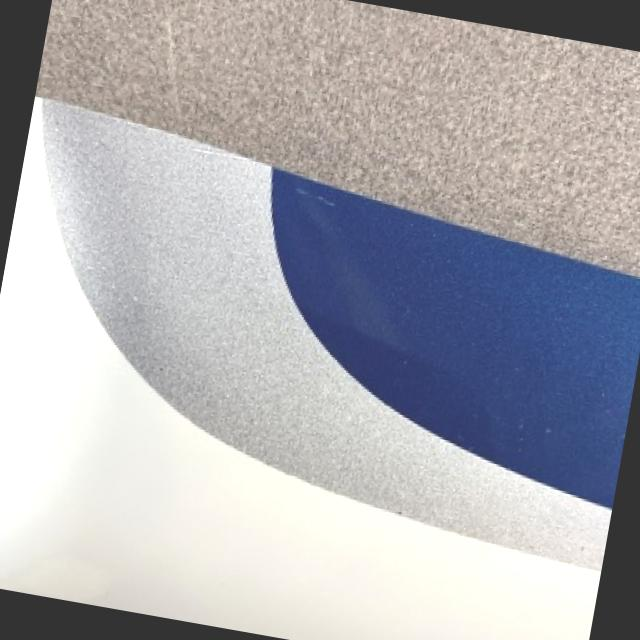healthy: (37, 0, 640, 565), (47, 101, 612, 565)
